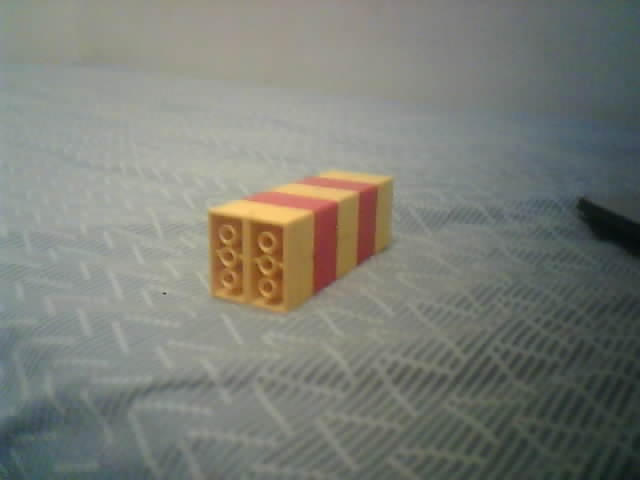lego: (205, 167, 395, 317)
